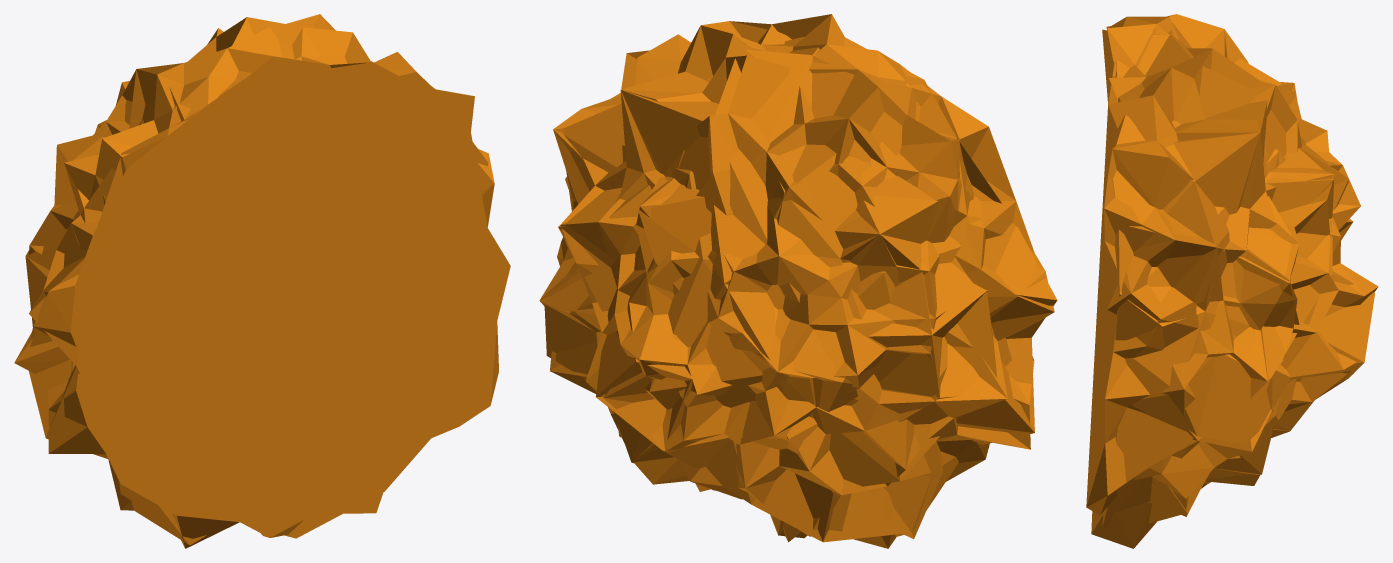
File: Coral2.fbx
3 renders of one model, left to right at view 1: azimuth 30°, elevation 25°; view 2: azimuth 150°, elevation 25°; view 3: azimuth 270°, elevation 25°, orthographic. The views are drawn at different scales.
Parts seen in each view (by area): view 1: Coral2Near, Coral2Middle; view 2: Coral2Near, Coral2Middle, Coral2Far; view 3: Coral2Near, Coral2Middle, Coral2Far.
Boxes of the visible parts, <box> form: Coral2Near: <box>14,14,510,548</box>; Coral2Middle: <box>25,14,488,545</box>; Coral2Near: <box>539,14,1054,548</box>; Coral2Middle: <box>544,36,1057,542</box>; Coral2Far: <box>622,141,1011,417</box>; Coral2Near: <box>1086,14,1378,548</box>; Coral2Middle: <box>1102,23,1374,527</box>; Coral2Far: <box>1147,149,1290,458</box>.
Size of the model in its own units: 634 by 643 by 353.
